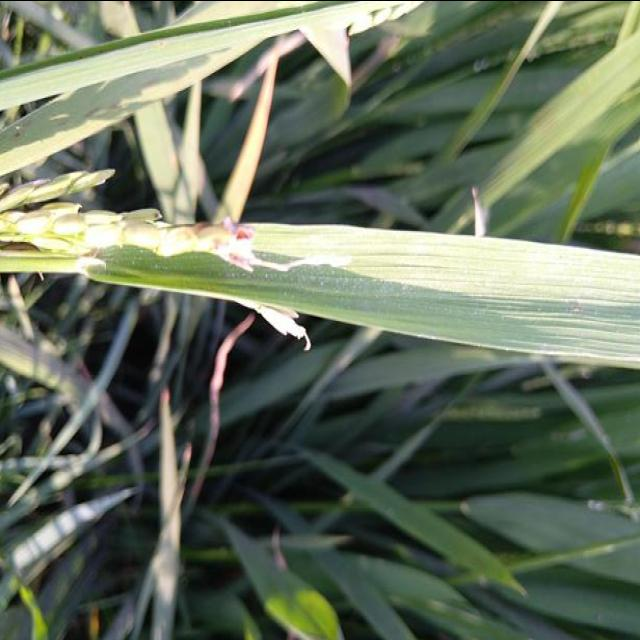Panicle Blight: (192, 213, 259, 272)
